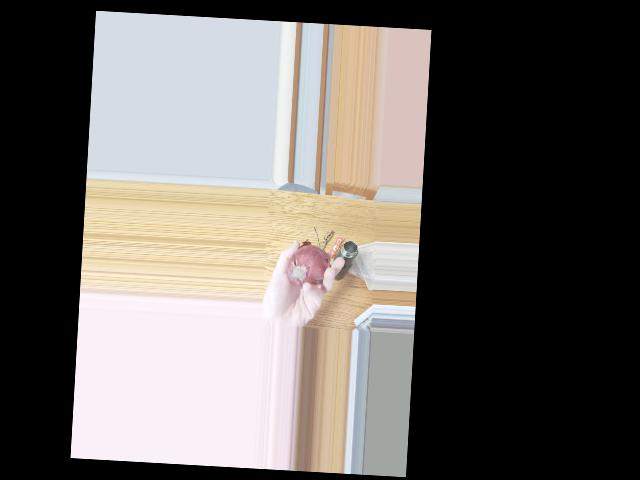onion: (286, 247, 326, 289)
